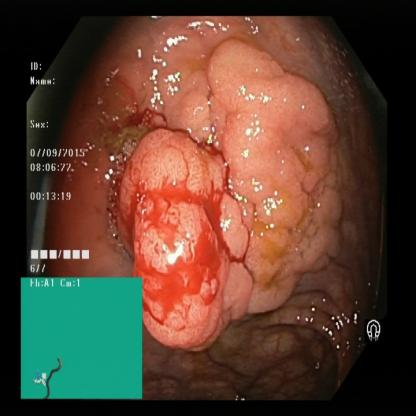Labels: (27, 55, 97, 273), (20, 278, 142, 401)
Polyps: (119, 127, 236, 355), (211, 53, 340, 204)
